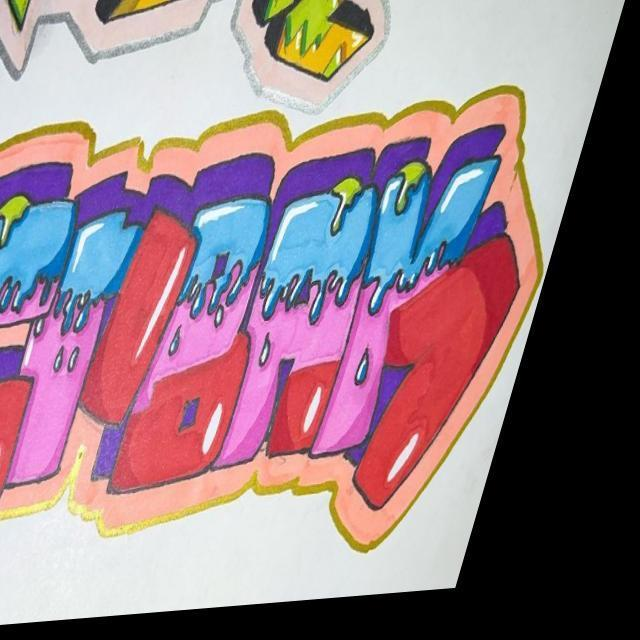-: (0, 87, 591, 598)
